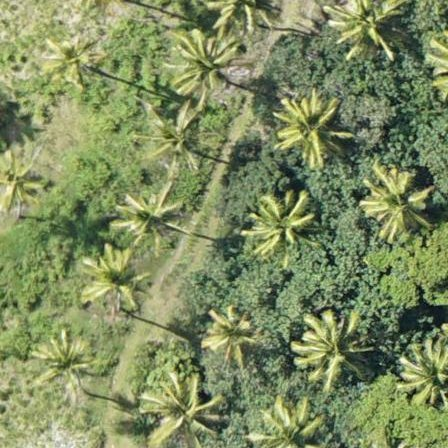palm_tree: (143, 375, 219, 443), (114, 183, 185, 254), (294, 317, 364, 387), (359, 168, 430, 235), (166, 33, 238, 96), (277, 98, 346, 163), (245, 193, 313, 257), (79, 248, 138, 309), (395, 342, 448, 407), (32, 331, 91, 389), (148, 110, 207, 168), (42, 34, 105, 87), (335, 1, 397, 52), (1, 147, 48, 211), (201, 307, 256, 359)
